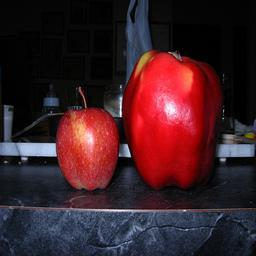apple: (54, 107, 119, 190)
